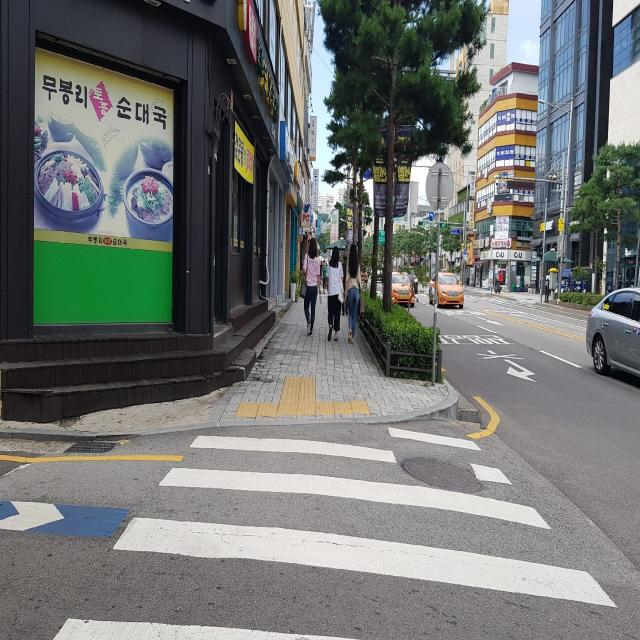횡단보도: (52, 428, 619, 640)
